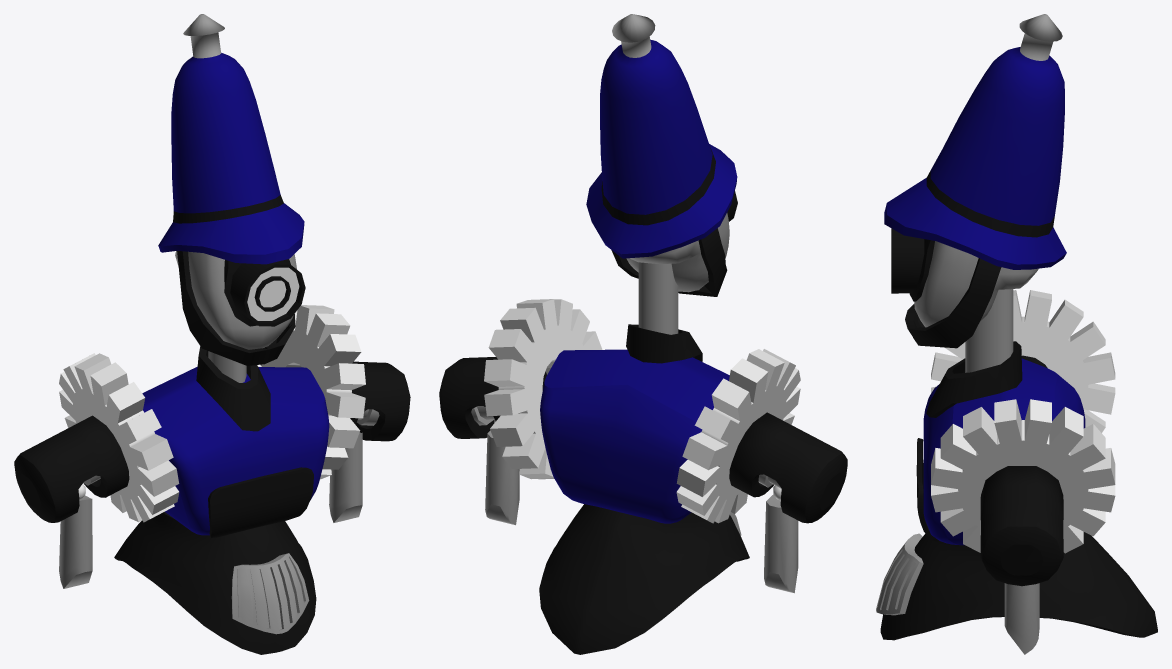
The model's file is Robot Inglaterra.FBX.
3 renders of one model, left to right at view 1: azimuth 30°, elevation 25°; view 2: azimuth 150°, elevation 25°; view 3: azimuth 270°, elevation 25°, orthographic. The views are drawn at different scales.
Parts seen in each view (by area): view 1: Sombrero, Cylinder001, Falda, Cylinder004, Hombro Derecho, Cylinder003, Decoracion Pecho, Decoracion Falda, Ojo, Cabeza, Collar, Hombro Izquierdo (+4 smaller); view 2: Sombrero, Cylinder001, Falda, Cylinder003, Cylinder004, Hombro Derecho, Hombro Izquierdo, Brazo Derecho, Cuello, Brazo Izquierdo, Cabeza, Collar (+1 smaller); view 3: Sombrero, Cylinder003, Falda, Hombro Izquierdo, Cylinder004, Cylinder001, Cabeza, Cuerda Sombrero, Collar, Cuello, Ojo, Decoracion Falda (+2 smaller).
Part boxes in pixels (left/top/right/bottom): Sombrero: left=158, top=14, right=304, bottom=264; Cylinder001: left=142, top=366, right=329, bottom=535; Falda: left=114, top=511, right=316, bottom=654; Cylinder004: left=59, top=353, right=179, bottom=522; Hombro Derecho: left=14, top=415, right=129, bottom=522; Cylinder003: left=258, top=305, right=365, bottom=479; Decoracion Pecho: left=208, top=467, right=313, bottom=537; Decoracion Falda: left=231, top=553, right=309, bottom=634; Ojo: left=224, top=259, right=305, bottom=326; Cabeza: left=175, top=251, right=296, bottom=349; Collar: left=196, top=346, right=270, bottom=431; Hombro Izquierdo: left=350, top=361, right=410, bottom=441; Sombrero: left=586, top=14, right=737, bottom=258; Cylinder001: left=540, top=349, right=729, bottom=523; Falda: left=539, top=504, right=749, bottom=654; Cylinder003: left=484, top=299, right=602, bottom=479; Cylinder004: left=676, top=349, right=800, bottom=523; Hombro Derecho: left=729, top=412, right=847, bottom=523; Hombro Izquierdo: left=439, top=357, right=546, bottom=438; Brazo Derecho: left=764, top=494, right=798, bottom=593; Cuello: left=638, top=262, right=678, bottom=334; Brazo Izquierdo: left=485, top=430, right=519, bottom=525; Cabeza: left=626, top=213, right=729, bottom=292; Collar: left=626, top=324, right=702, bottom=363; Sombrero: left=884, top=14, right=1066, bottom=269; Cylinder003: left=931, top=399, right=1115, bottom=553; Falda: left=880, top=532, right=1157, bottom=640; Hombro Izquierdo: left=980, top=466, right=1063, bottom=586; Cylinder004: left=931, top=290, right=1115, bottom=432; Cylinder001: left=923, top=358, right=1085, bottom=545; Cabeza: left=914, top=241, right=1038, bottom=327; Cuerda Sombrero: left=905, top=258, right=1001, bottom=348; Collar: left=926, top=341, right=1022, bottom=417; Cuello: left=965, top=289, right=1013, bottom=372; Ojo: left=891, top=228, right=934, bottom=301; Decoracion Falda: left=876, top=533, right=923, bottom=615.
Bounding box in the file's own units: 44.07 × 65.58 × 27.15.
